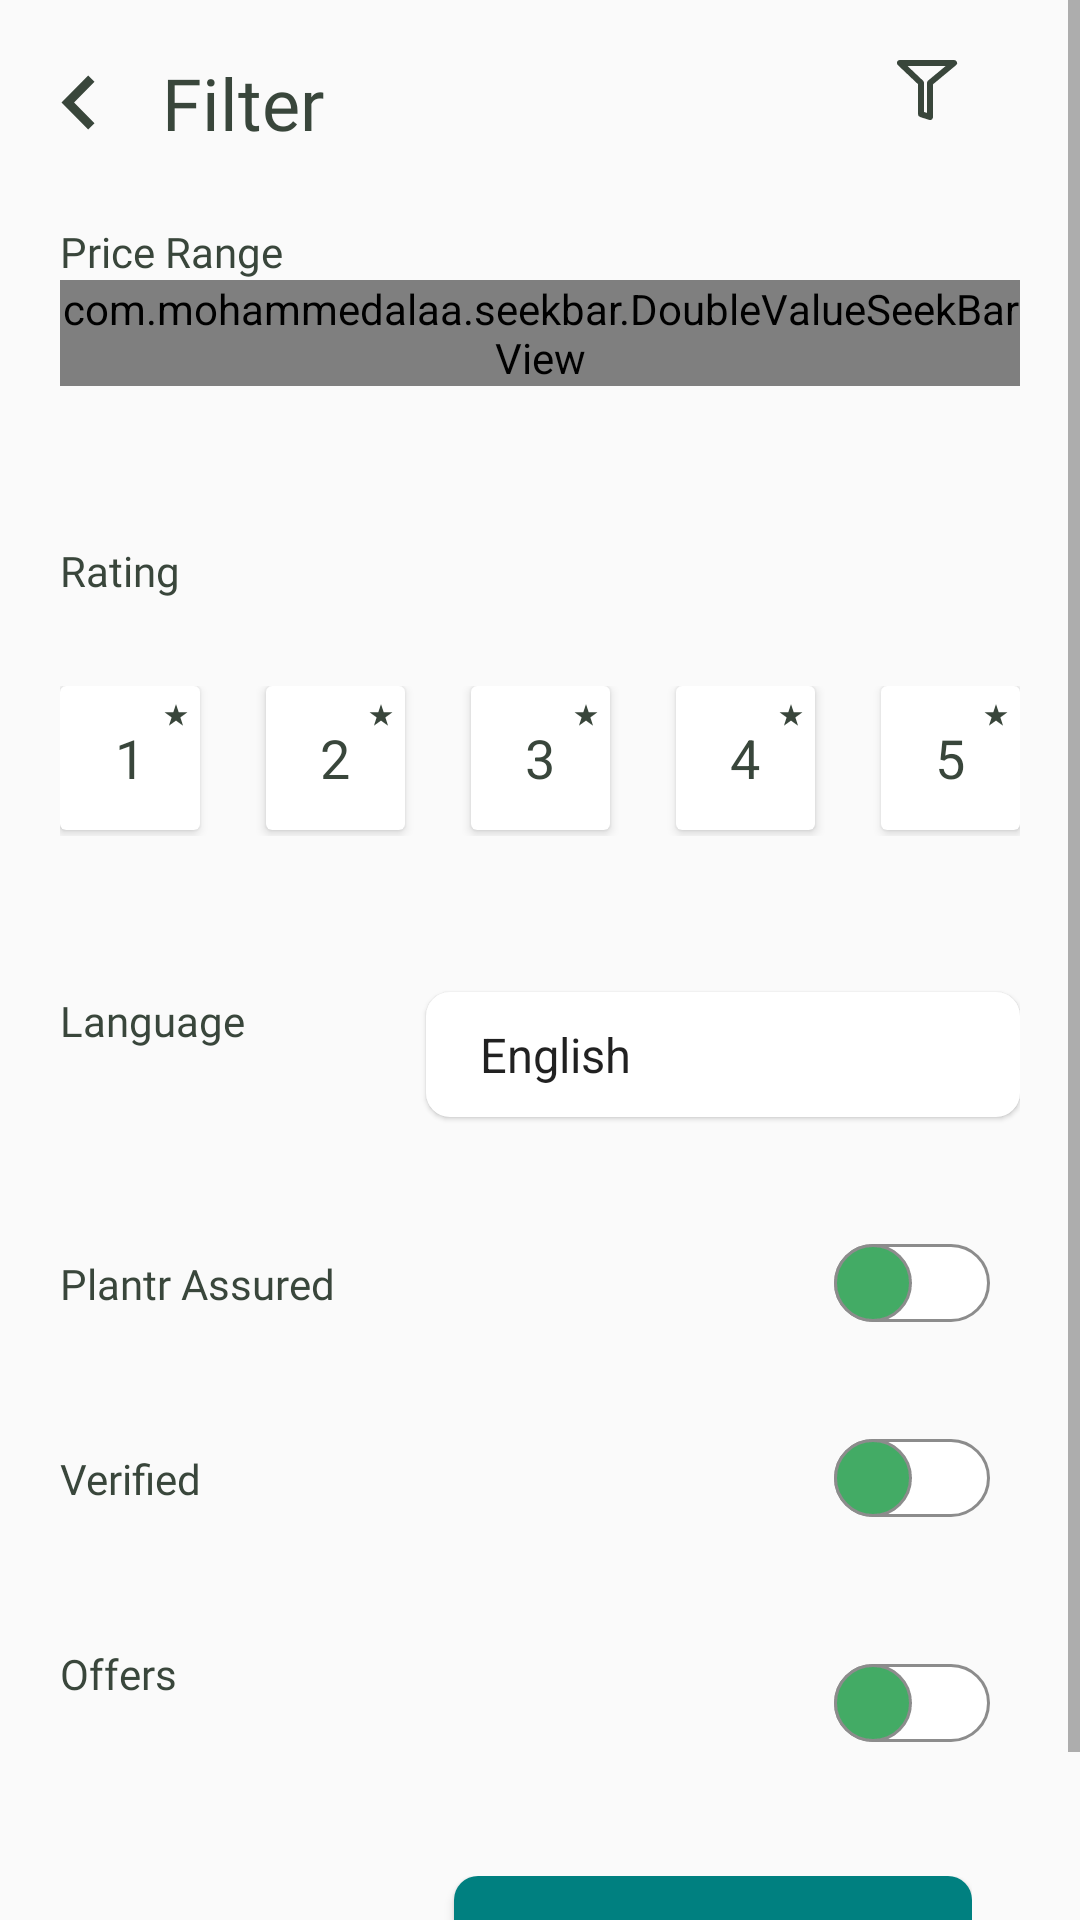

Icons on this 1080*1920 Android screen, each with its box as [x1=x1, y1=y1, x2=x2, y2=y2]:
filter: [x1=897, y1=60, x2=958, y2=120]
